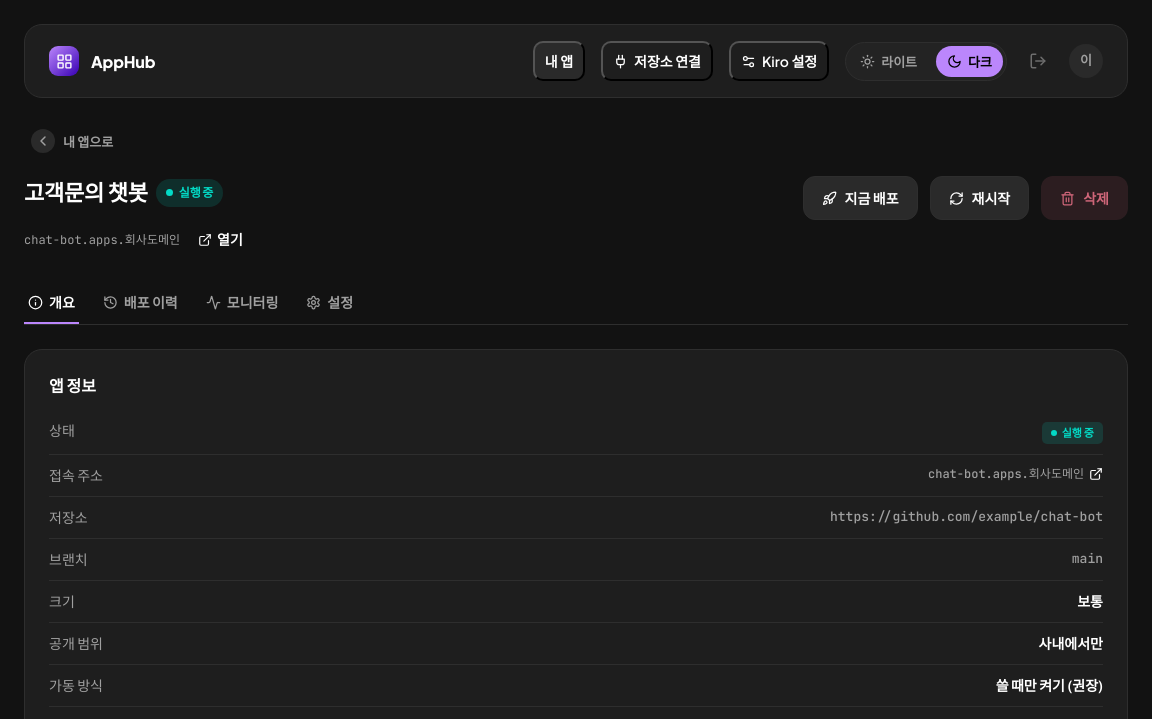
Test: 앱 상세 — 탭 재편(개요·배포 이력·모니터링·설정) › 모니터링 탭은 목 시계열로 차트 3개(접속량·CPU·메모리)를 렌더한다
The image size is (1152, 719).
Expected: the heading "고객문의 챗봇 실행 중" is shown, [24, 176, 253, 209]
Click the tab "모니터링" at (242, 303), box [202, 282, 282, 324]
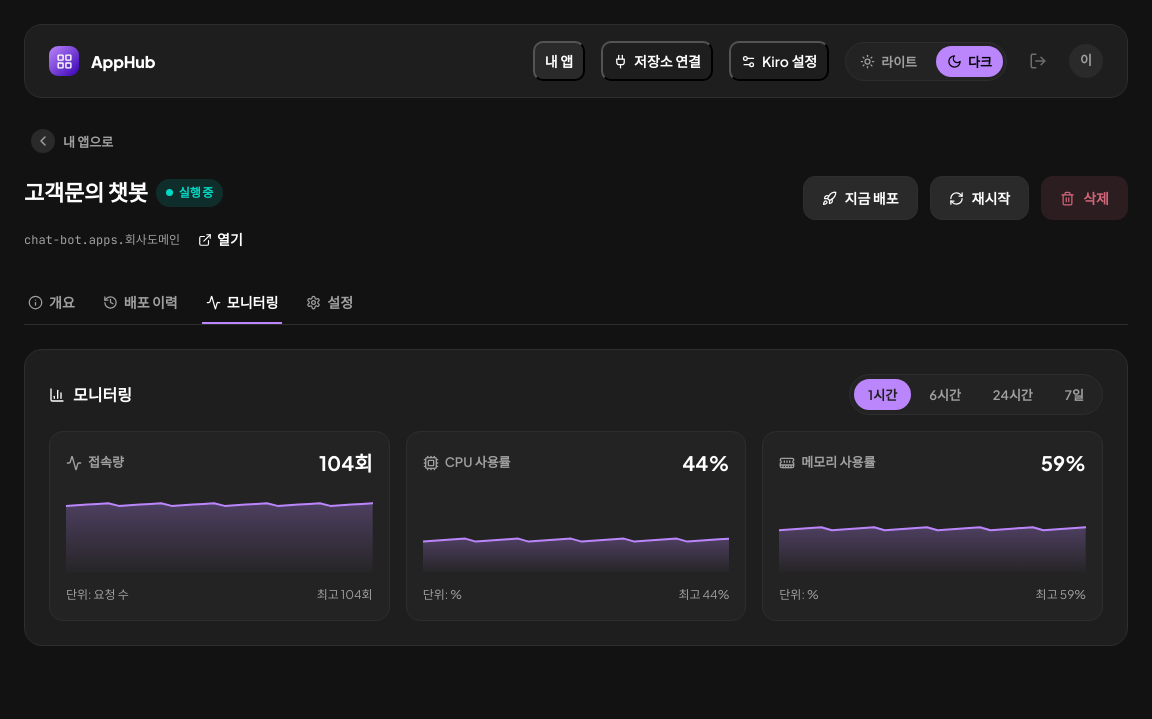
Expected: the text "접속량" is shown, [66, 453, 124, 473]
Expected: the text "CPU 사용률" is shown, [423, 453, 511, 473]
Expected: the text "메모리 사용률" is shown, [779, 453, 875, 473]
